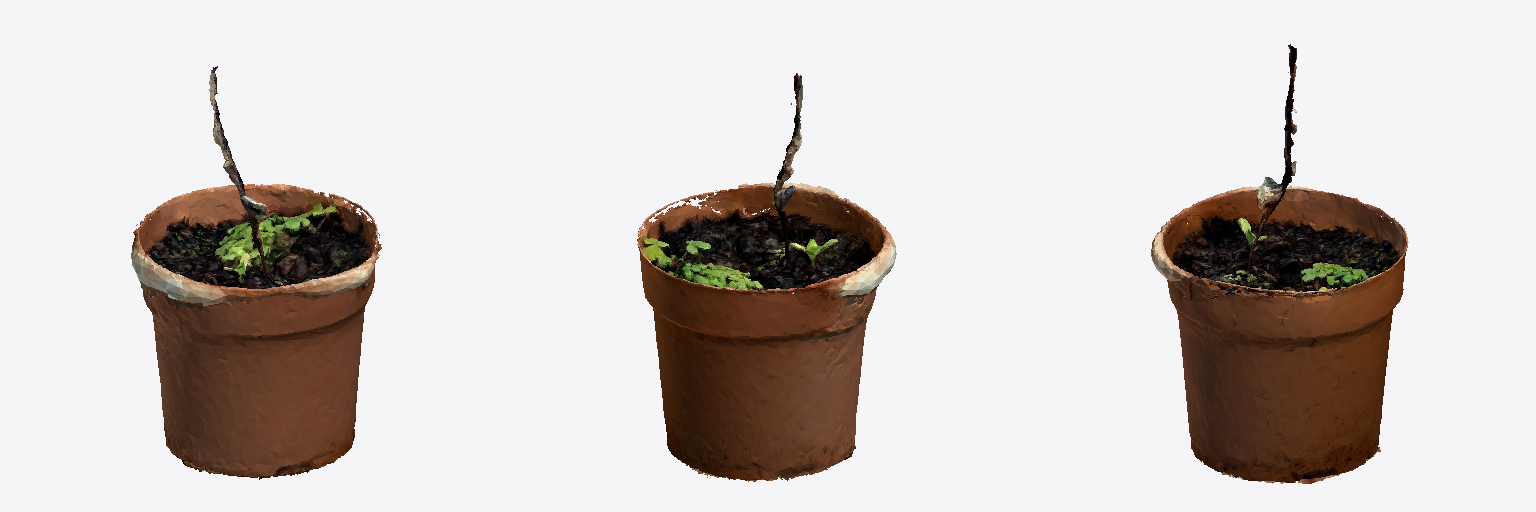
3 views of the same model, side by side, from view 1: azimuth 30°, elevation 25°; view 2: azimuth 150°, elevation 25°; view 3: azimuth 270°, elevation 25° (orthographic).
Parts seen in each view (by area): view 1: model; view 2: model; view 3: model.
Part boxes in pixels (x1,y1,x2,y2): model: (131,66,381,479); model: (637,73,896,481); model: (1151,44,1408,483).
Bounding box in the file's own units: 1.82 × 3.03 × 1.81.
Materials: 2 (2 with a texture image).